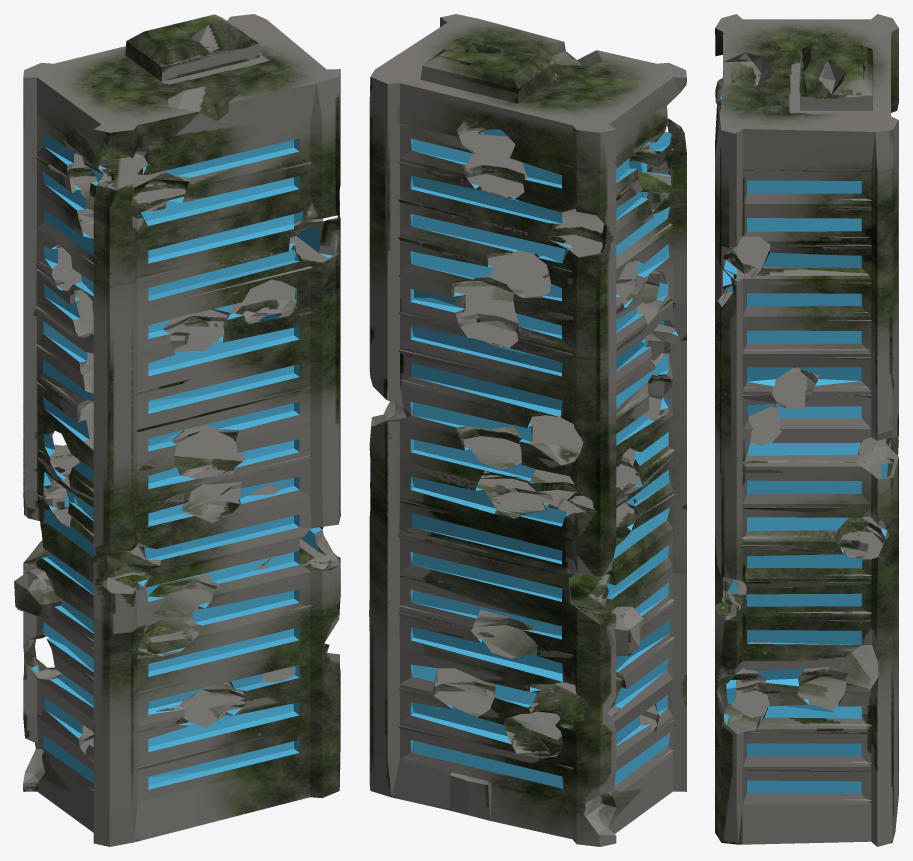
File: buildings7.fbx
3 renders of one model, left to right at view 1: azimuth 30°, elevation 25°; view 2: azimuth 150°, elevation 25°; view 3: azimuth 270°, elevation 25°, orthographic.
Parts seen in each view (by area): view 1: 4.001; view 2: 4.001; view 3: 4.001.
Boxes of the visible parts, x1=… form: 4.001: x1=14, y1=14, x2=340, y2=846; 4.001: x1=369, y1=14, x2=686, y2=846; 4.001: x1=715, y1=14, x2=898, y2=846.
Size of the model in its own units: 3101 by 8331 by 1884.
Materials: 2 (1 with a texture image).
